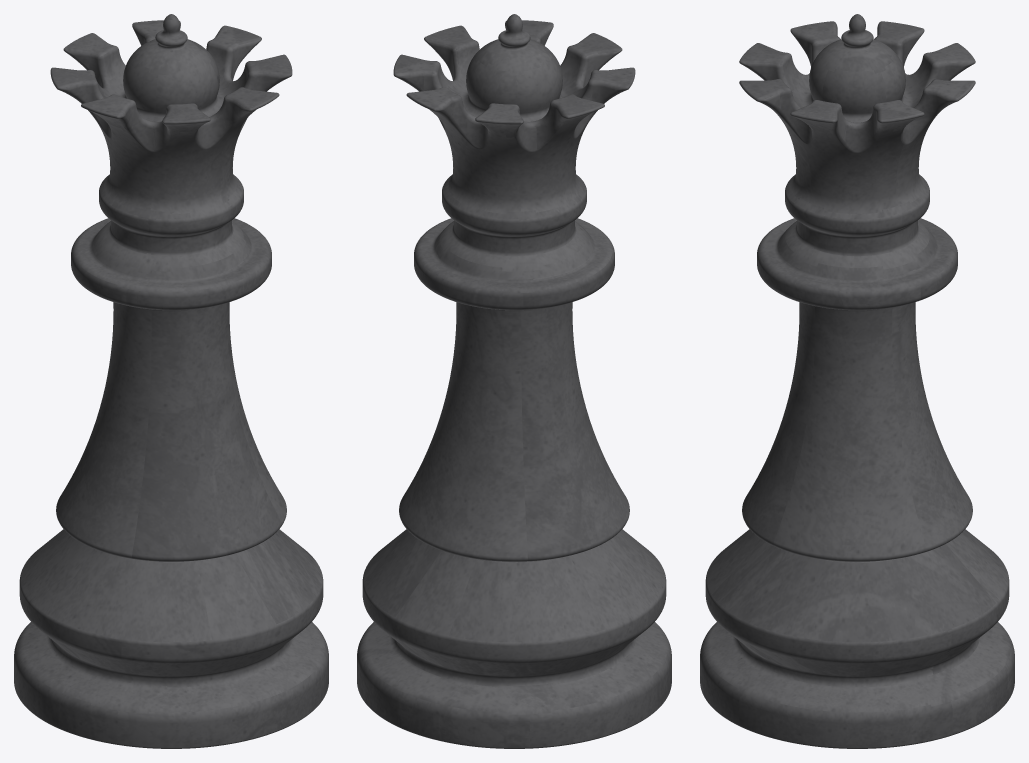
File: bqueen.glb
The picture shows the model from 3 angles, left to right: view 1: azimuth 30°, elevation 25°; view 2: azimuth 150°, elevation 25°; view 3: azimuth 270°, elevation 25°; orthographic projection.
Parts seen in each view (by area): view 1: QueeN.001; view 2: QueeN.001; view 3: QueeN.001.
Part boxes in pixels (x1,y1,x2,y2): QueeN.001: (14, 14, 328, 748); QueeN.001: (357, 14, 671, 748); QueeN.001: (700, 14, 1014, 748).
Size of the model in its own units: 0.032 by 0.075 by 0.032.
1 material, 1 textured.
